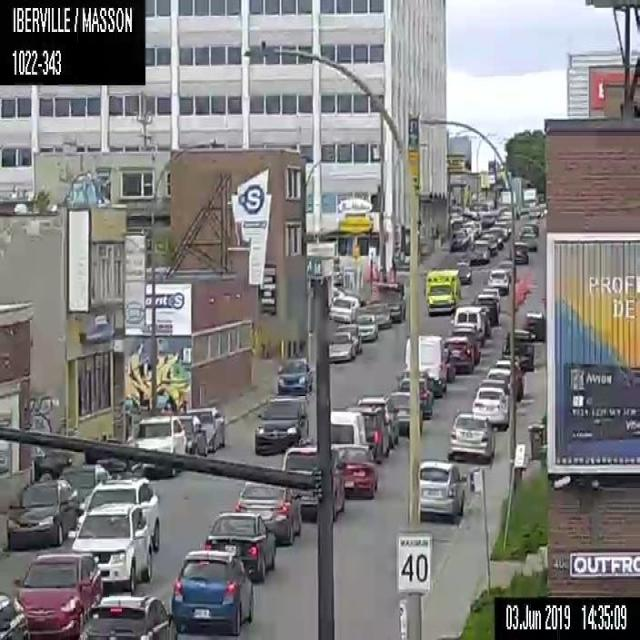vehicle: (67, 502, 154, 595), (170, 547, 255, 638), (11, 551, 99, 635), (79, 478, 162, 551), (5, 474, 80, 550), (203, 509, 276, 583), (280, 443, 344, 520), (233, 474, 303, 540), (124, 416, 189, 481), (83, 596, 179, 639), (252, 390, 308, 456), (417, 456, 467, 521), (404, 335, 447, 399), (331, 443, 375, 500), (449, 411, 494, 464), (356, 394, 400, 445), (422, 266, 462, 319), (326, 407, 365, 458), (357, 406, 389, 464), (30, 441, 72, 483), (471, 384, 509, 430), (187, 406, 225, 451), (170, 413, 207, 459), (60, 464, 112, 496), (386, 391, 422, 437), (398, 376, 432, 421), (501, 328, 535, 372), (276, 354, 312, 395), (372, 279, 405, 323), (0, 593, 28, 639), (453, 305, 484, 346), (450, 322, 480, 364), (441, 336, 474, 374), (494, 358, 522, 399), (328, 331, 358, 363), (471, 292, 498, 327), (484, 366, 516, 394), (329, 293, 357, 324), (336, 322, 361, 354), (365, 301, 391, 328), (523, 310, 545, 340), (354, 314, 378, 341), (487, 268, 508, 294), (479, 286, 500, 311), (509, 239, 529, 264), (477, 232, 497, 256), (471, 238, 489, 264), (518, 230, 538, 252), (521, 186, 537, 212), (454, 261, 472, 284), (443, 347, 455, 381), (449, 230, 467, 251), (488, 225, 503, 250), (492, 217, 509, 238), (461, 220, 476, 237), (528, 205, 540, 218)
